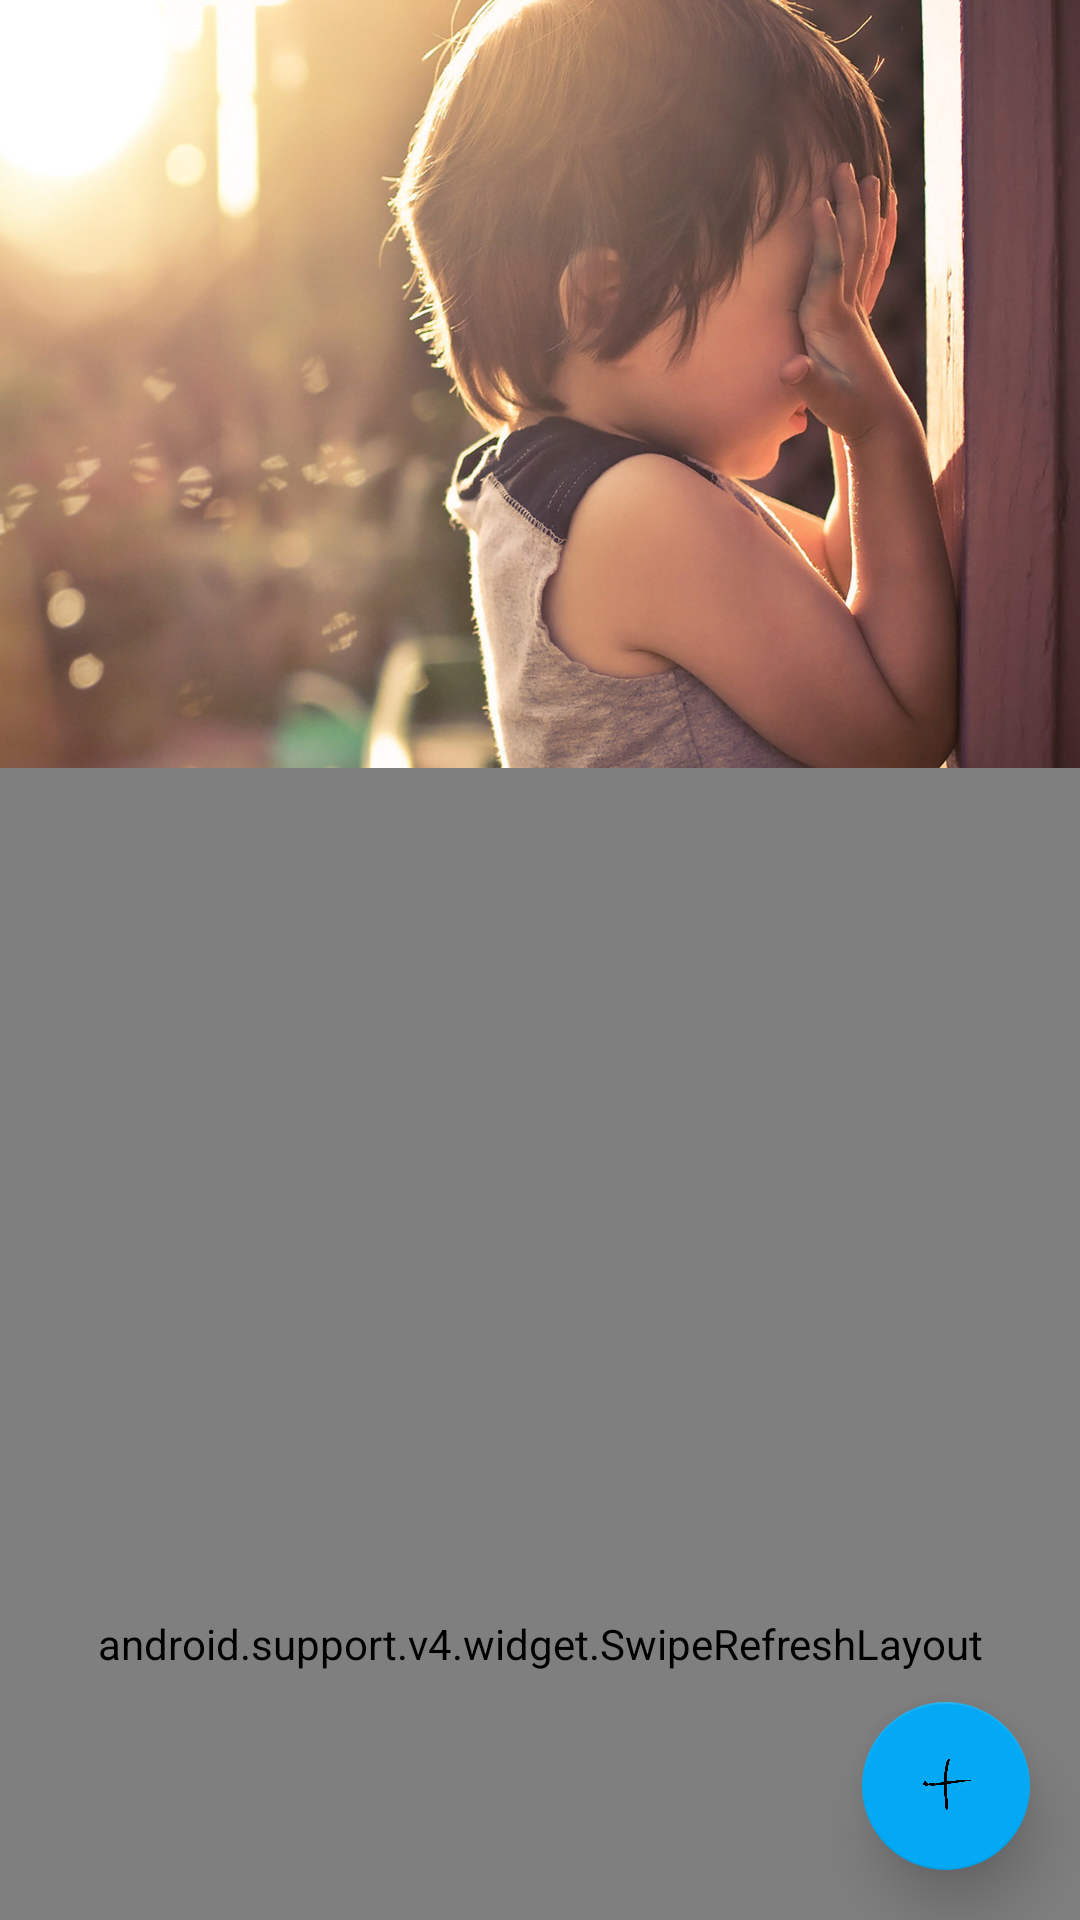

Named icons in this screenshot (1080×1920) and their centers, [x,y]:
add: [946,1786]
